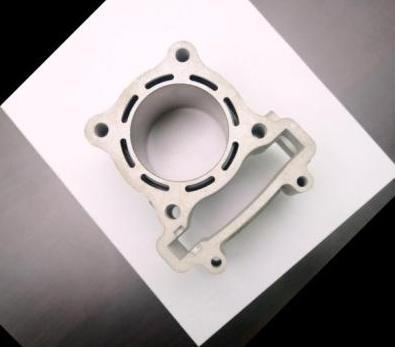hole: (158, 198, 185, 224), (245, 117, 271, 142), (170, 42, 194, 66), (89, 116, 113, 140), (293, 170, 311, 189), (205, 251, 223, 269)
